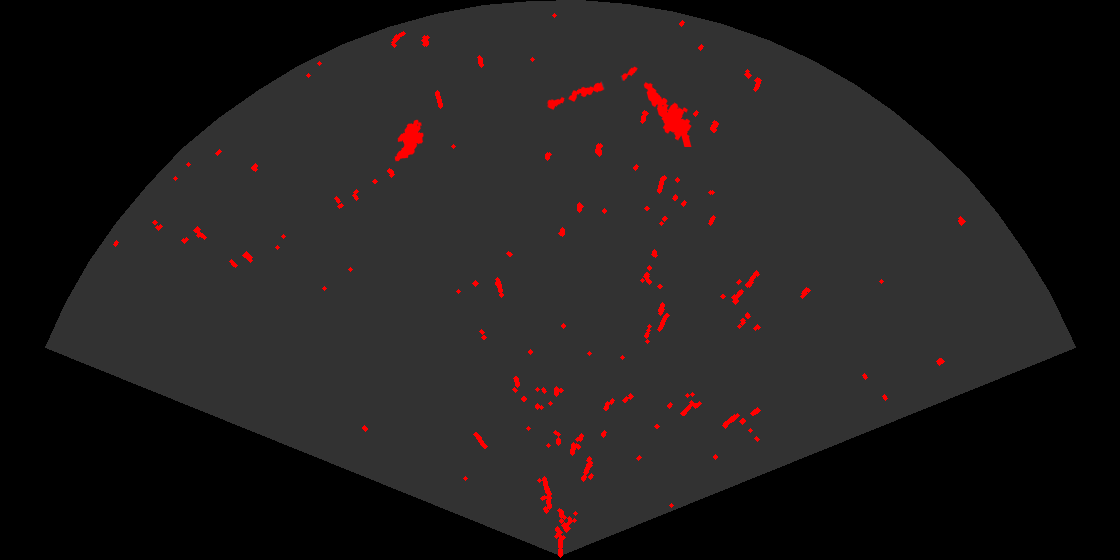AUV: (393, 118, 425, 163)
chain: (545, 65, 639, 111)
frogman: (642, 81, 693, 147)
